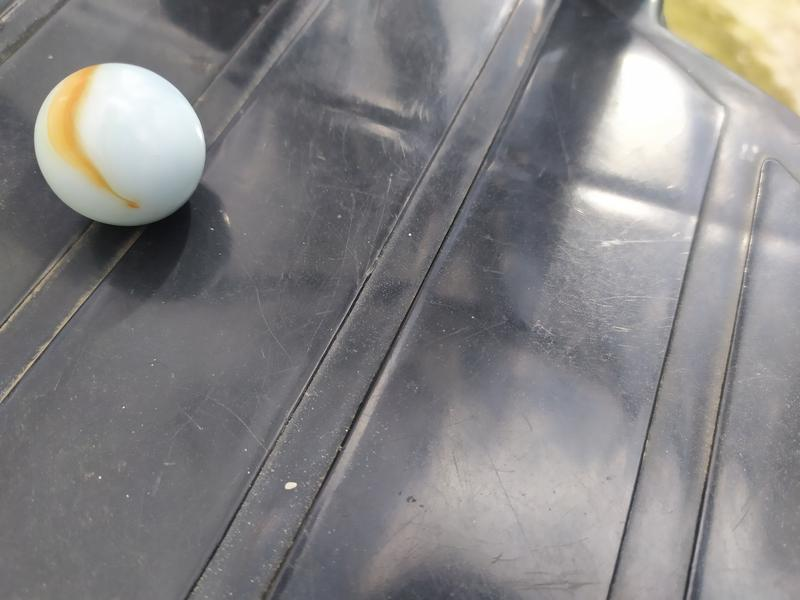Warning: (30, 60, 211, 228)
